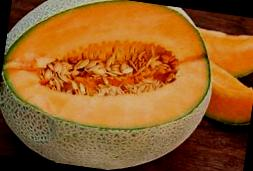Melon Ripe: (0, 0, 222, 171)
